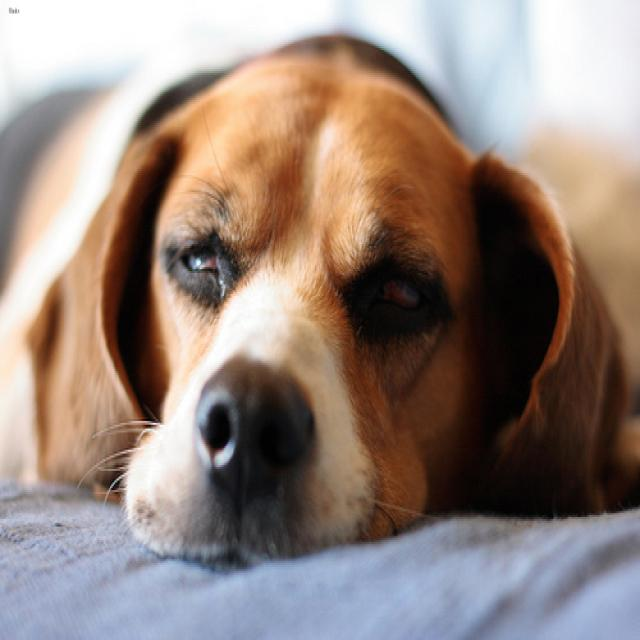dog-beagle: (1, 19, 637, 577)
